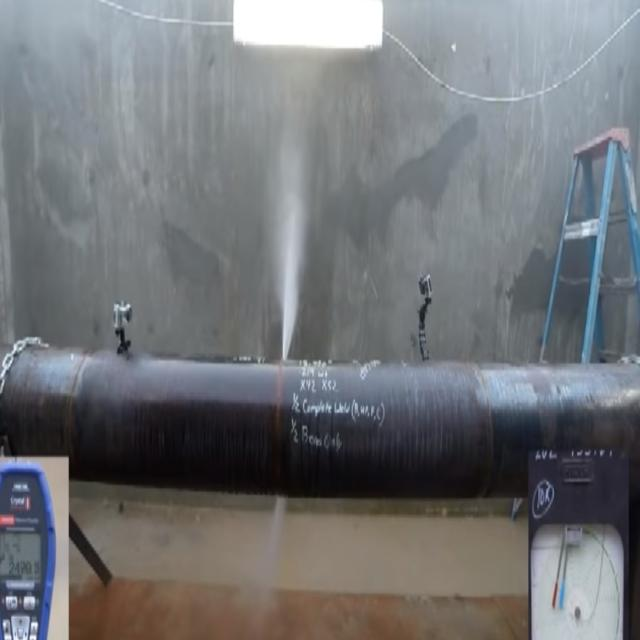leak: (282, 157, 308, 363)
